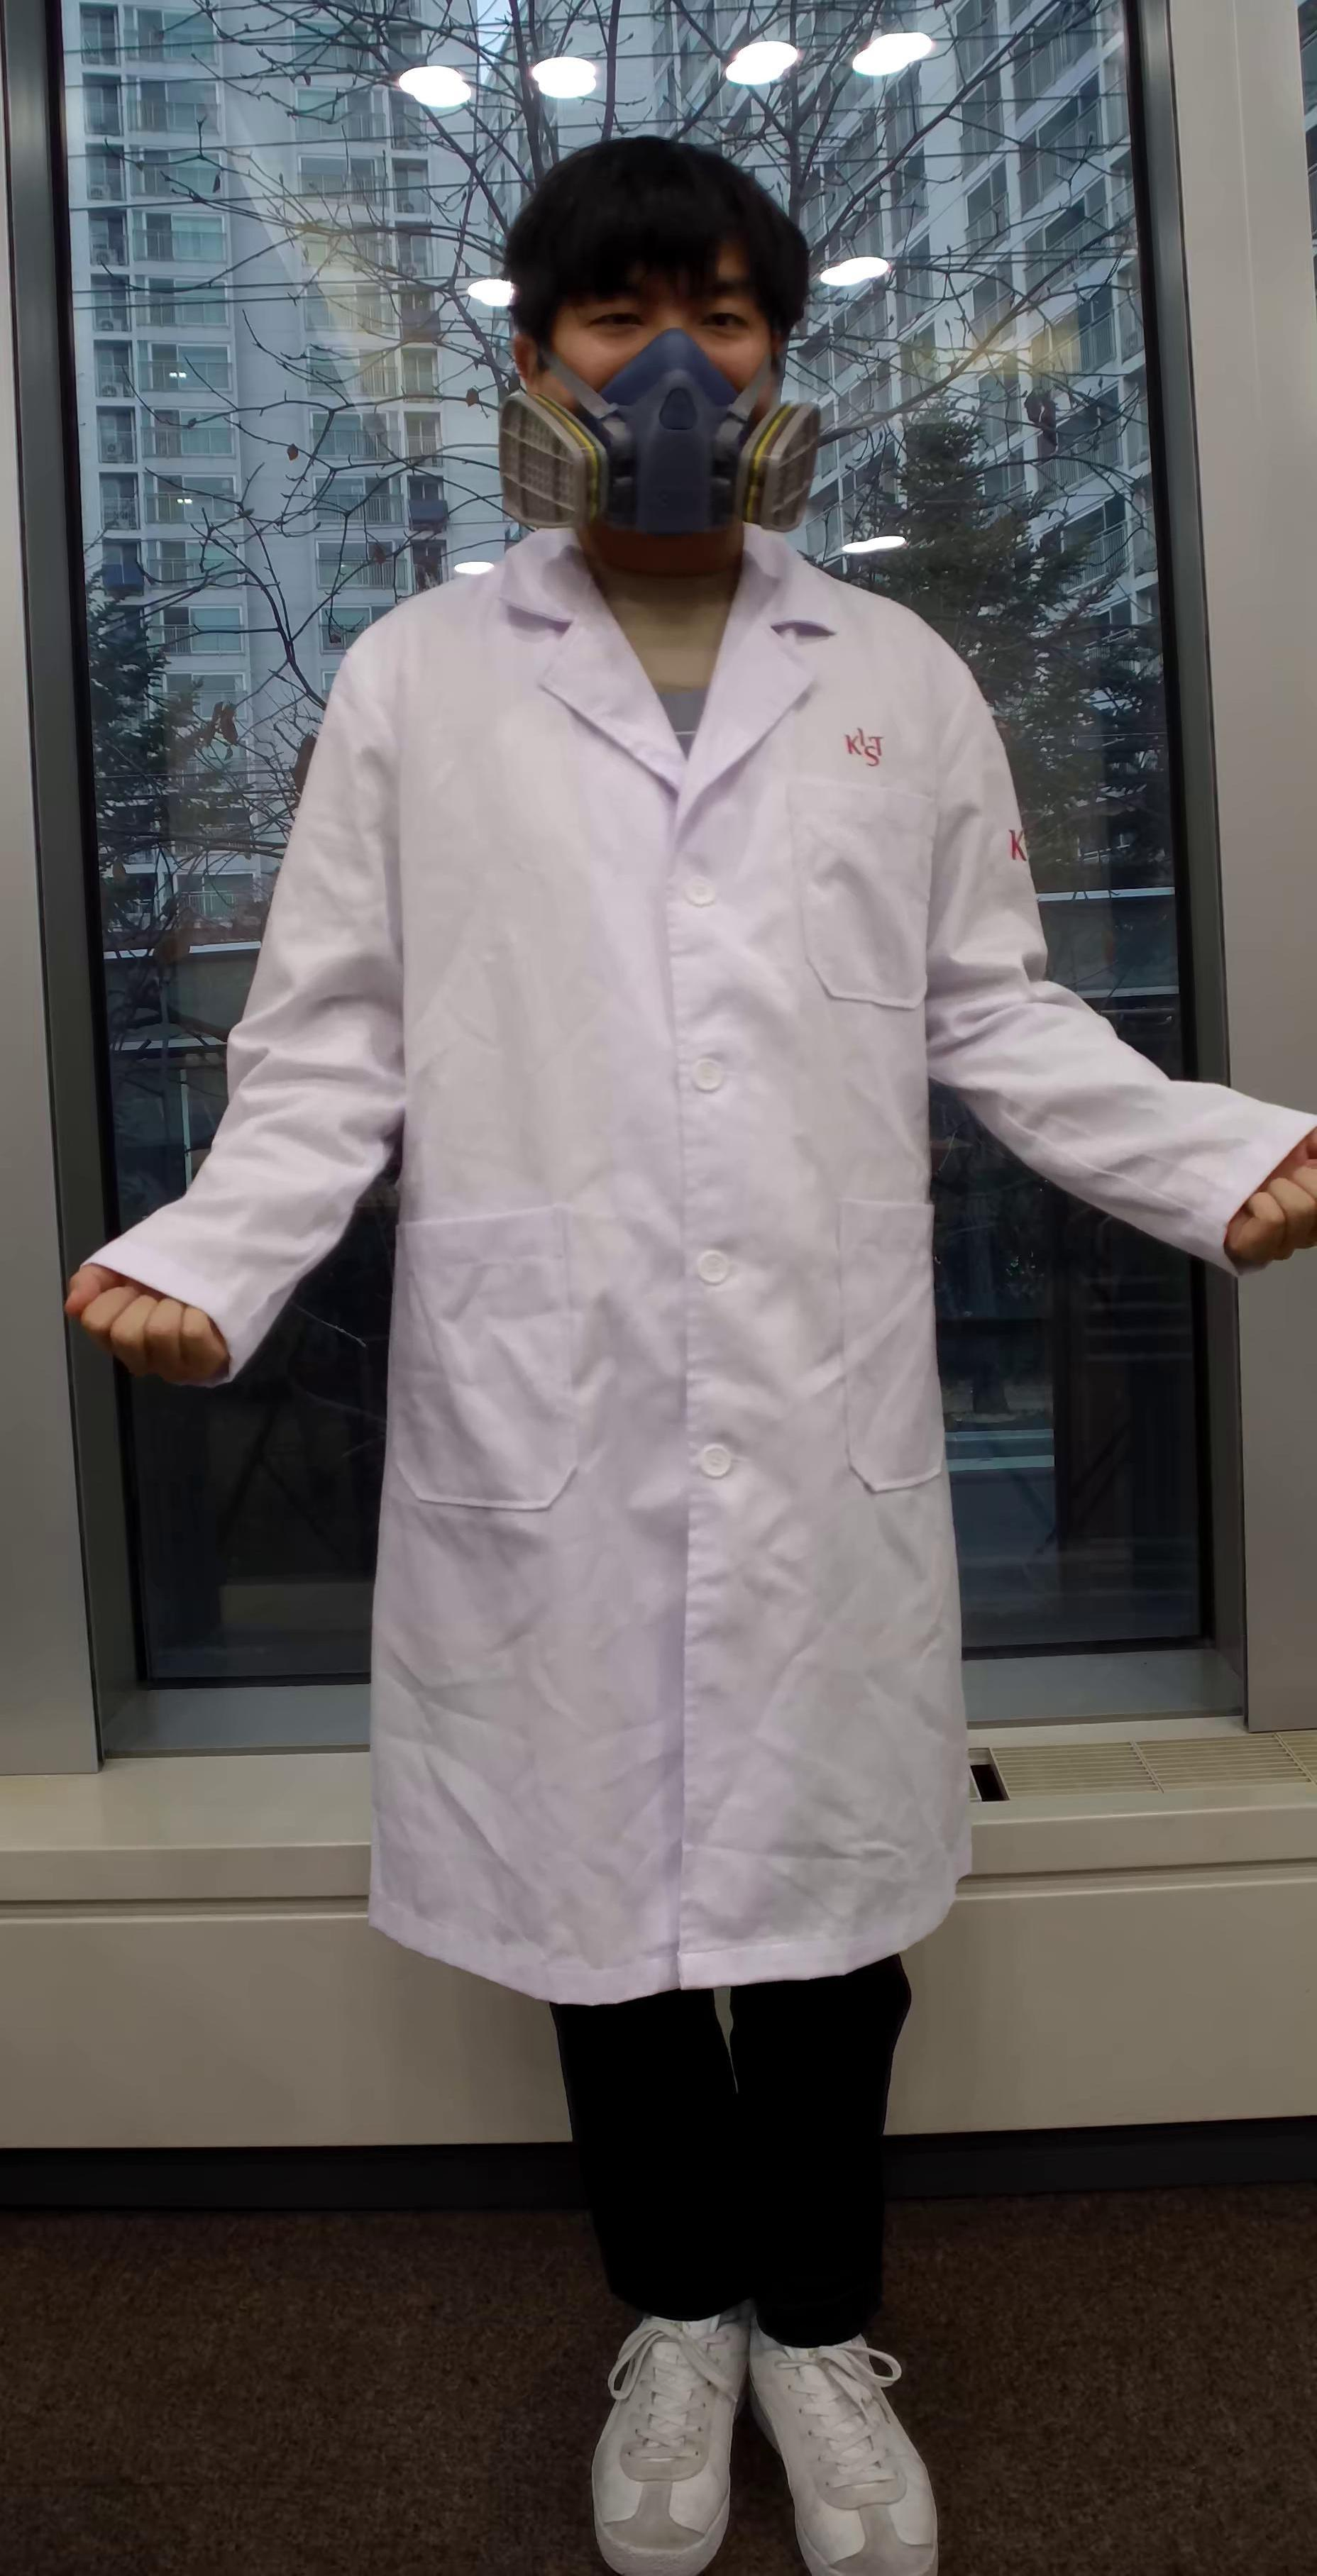lab_coat: (349, 618, 998, 1945)
